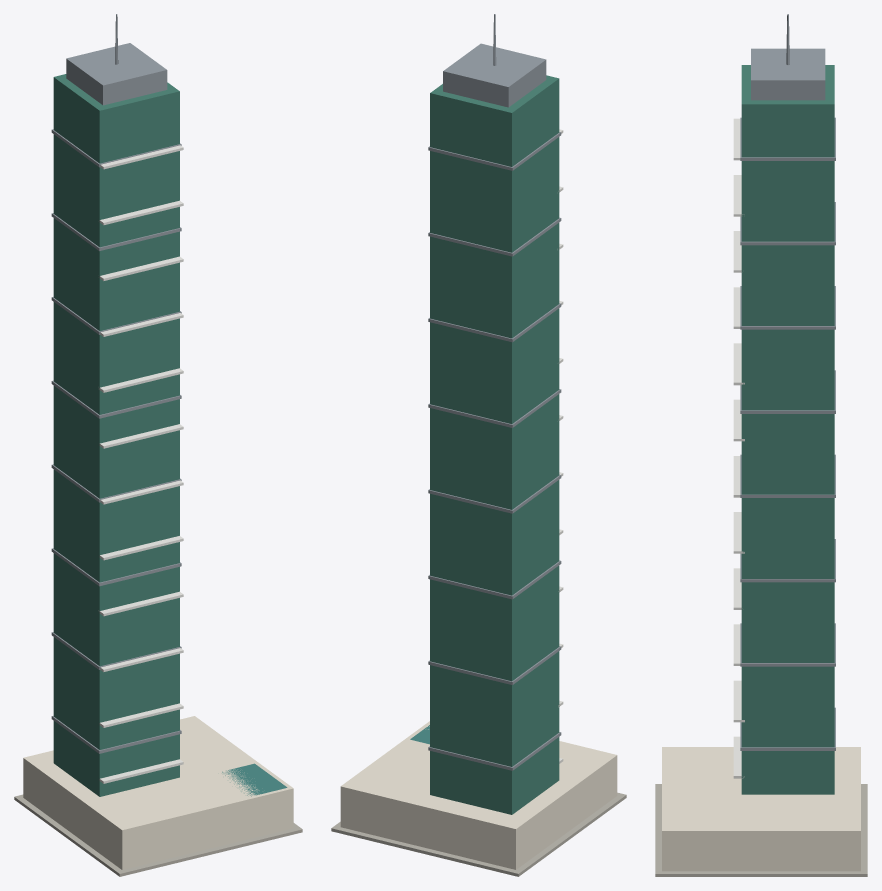
The model's file is zone_R_d4_e4.glb.
The picture shows the model from 3 angles, left to right: view 1: azimuth 30°, elevation 25°; view 2: azimuth 150°, elevation 25°; view 3: azimuth 270°, elevation 25°; orthographic projection. The views are drawn at different scales.
Visible parts, largest first — view 1: zone_R_d4_e4; view 2: zone_R_d4_e4; view 3: zone_R_d4_e4.
Part boxes in pixels (x1,y1,x2,y2): zone_R_d4_e4: (14, 14, 302, 876); zone_R_d4_e4: (331, 14, 626, 876); zone_R_d4_e4: (655, 14, 867, 876).
Bounding box in the file's own units: 0.96 × 4.01 × 0.96.
